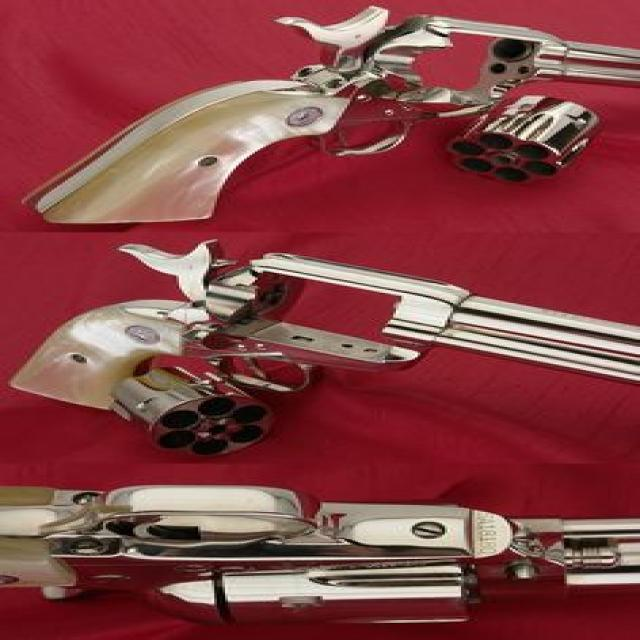revolver: (1, 0, 640, 231), (0, 238, 640, 450), (0, 456, 640, 628)
